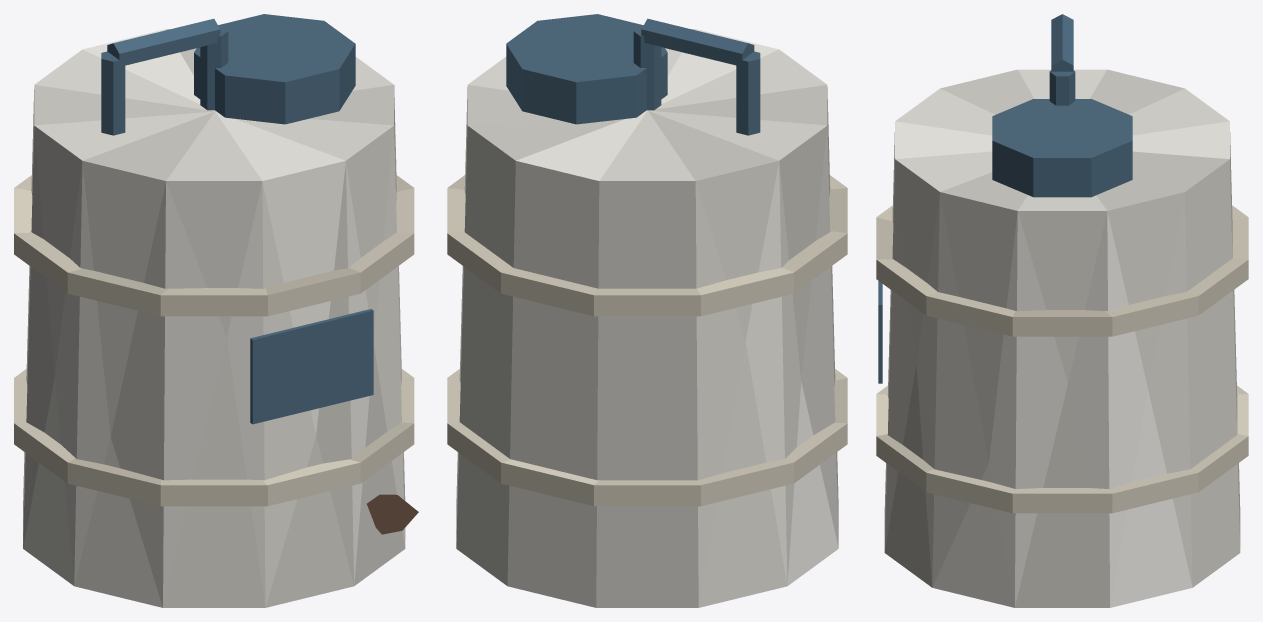
Rendered from barrel_water_malaya_kanistra_bochonok_30_l_idle.glb.
3 renders of one model, left to right at view 1: azimuth 30°, elevation 25°; view 2: azimuth 150°, elevation 25°; view 3: azimuth 270°, elevation 25°, orthographic. The views are drawn at different scales.
Parts seen in each view (by area): view 1: barrel_water_malaya_kanistra_bochonok_30_l_idle; view 2: barrel_water_malaya_kanistra_bochonok_30_l_idle; view 3: barrel_water_malaya_kanistra_bochonok_30_l_idle.
Boxes of the visible parts, bbox=[...] form: barrel_water_malaya_kanistra_bochonok_30_l_idle: bbox=[14, 14, 418, 607]; barrel_water_malaya_kanistra_bochonok_30_l_idle: bbox=[447, 14, 847, 607]; barrel_water_malaya_kanistra_bochonok_30_l_idle: bbox=[876, 14, 1248, 607].
Size of the model in its own units: 0.3439 by 0.482 by 0.3439.
Materials: 1 (1 with a texture image).
